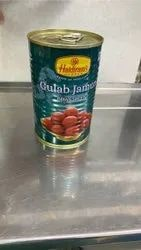metal: (26, 29, 103, 150)
